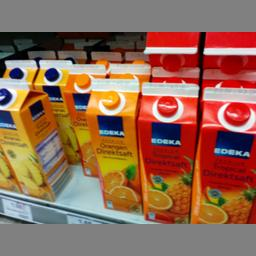juice: (135, 81, 199, 224), (0, 76, 72, 202), (188, 86, 252, 223), (86, 76, 142, 212)
